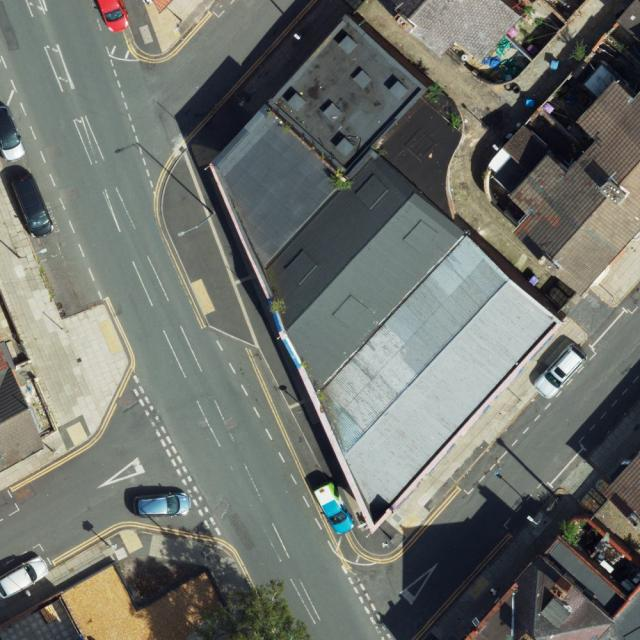roof: (209, 14, 566, 533), (511, 81, 640, 299), (470, 557, 640, 640), (391, 0, 521, 61), (0, 348, 44, 471), (604, 454, 640, 530)
